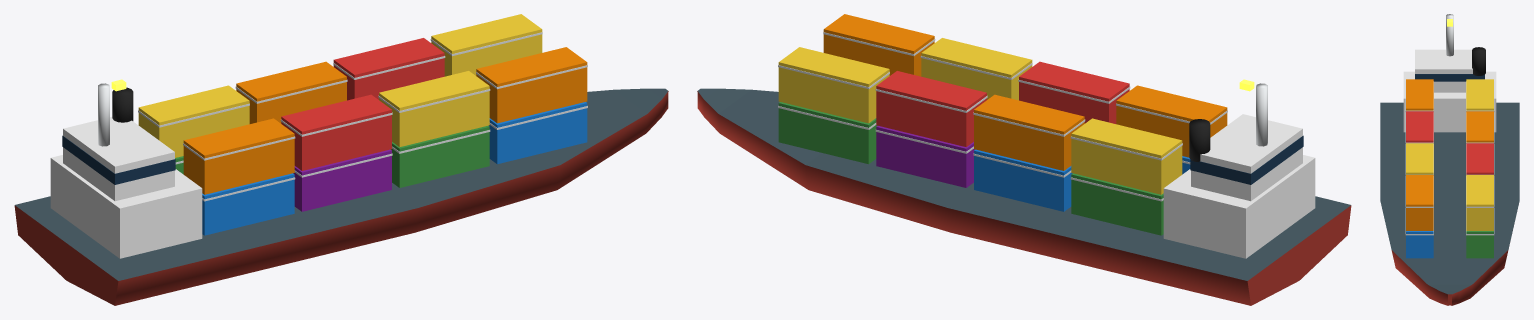
The model's file is Barge.glb.
The picture shows the model from 3 angles, left to right: view 1: azimuth 30°, elevation 25°; view 2: azimuth 150°, elevation 25°; view 3: azimuth 270°, elevation 25°; orthographic projection. The views are drawn at different scales.
Visible parts, largest first — view 1: Barge; view 2: Barge; view 3: Barge.
Part boxes in pixels (<box>): Barge: <box>14,14,668,305</box>; Barge: <box>697,14,1351,305</box>; Barge: <box>1380,14,1519,305</box>.
Size of the model in its own units: 40 by 11.82 by 12.
